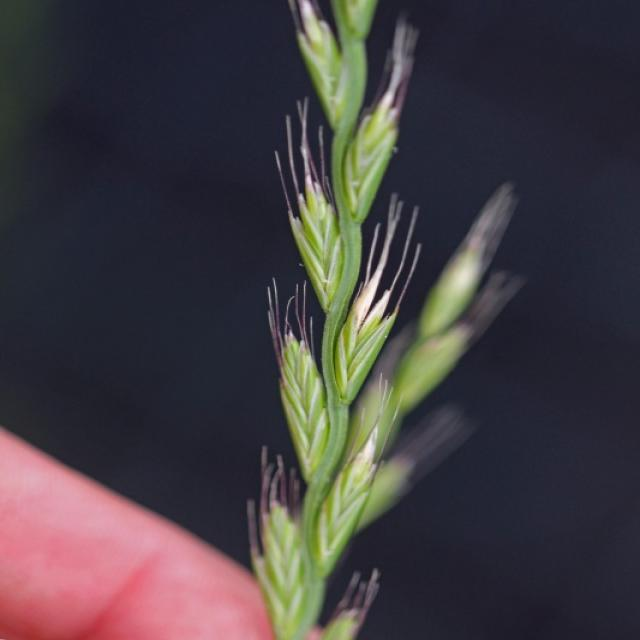Lolium: (242, 2, 530, 638)
